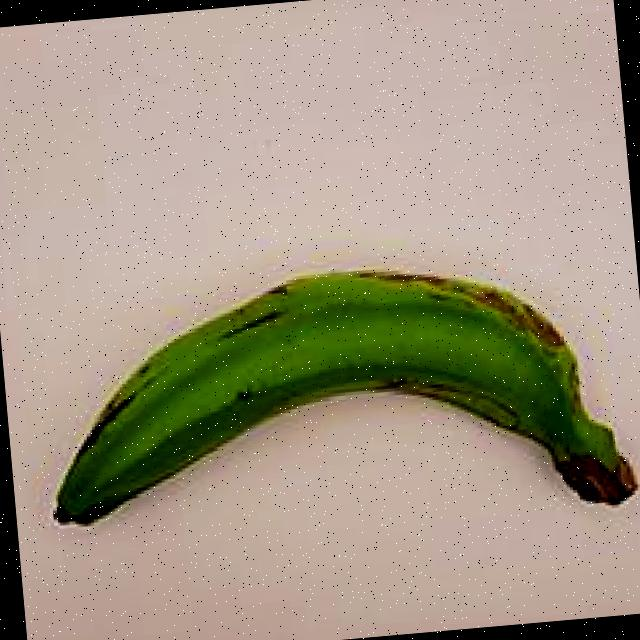Raw: (11, 196, 640, 601)
